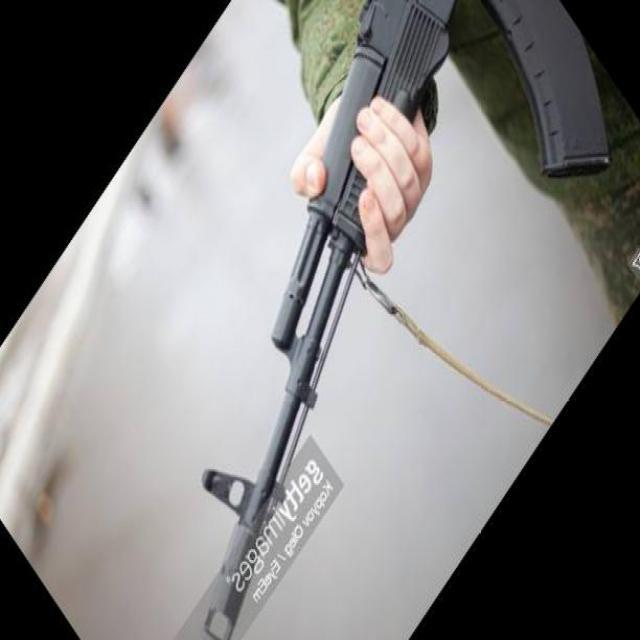weapon: (202, 0, 613, 640)
